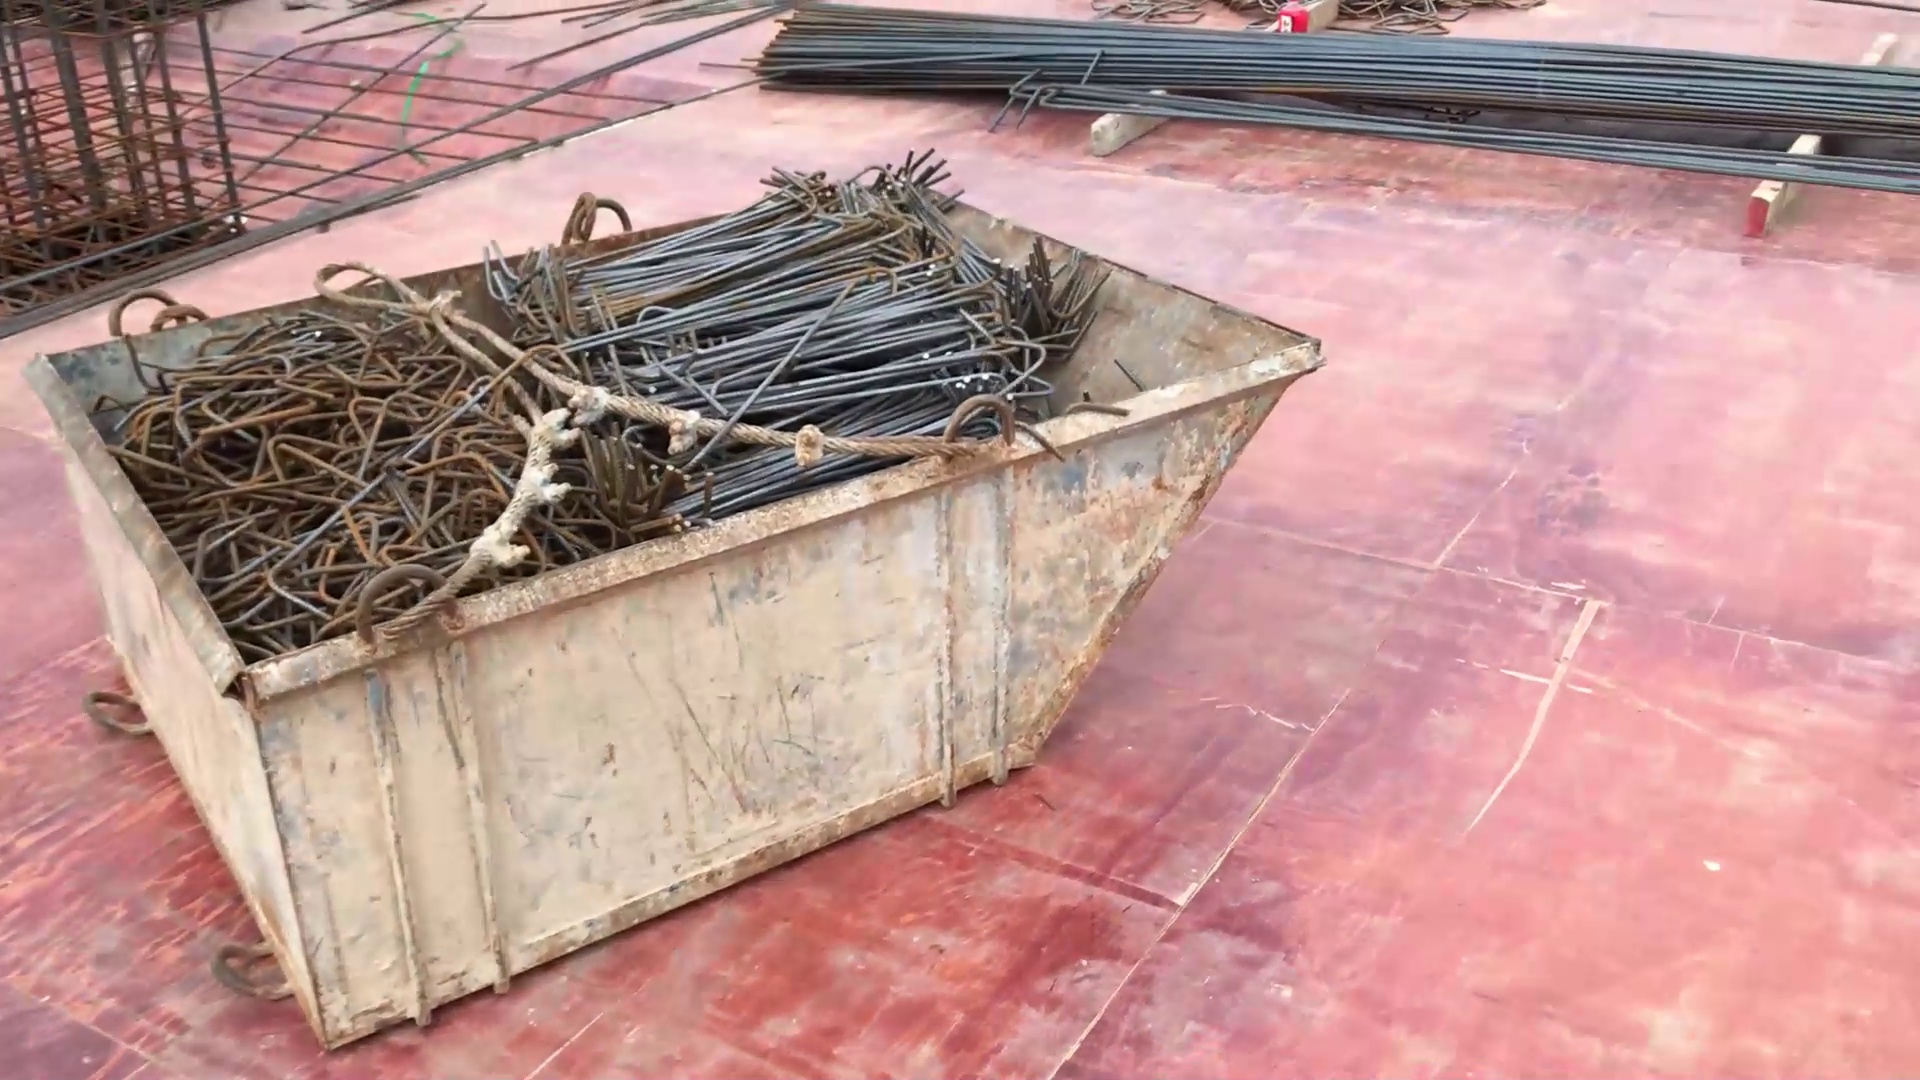hopper: (18, 199, 1325, 1056)
rebar: (756, 1, 1919, 158)
